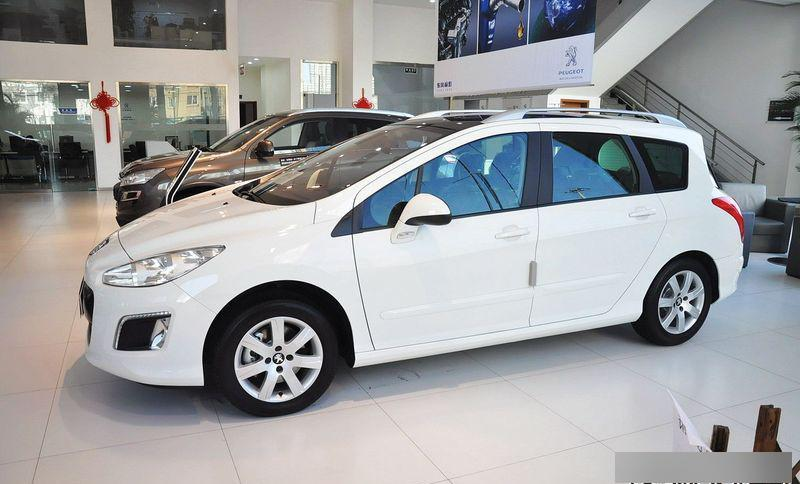Wagon: (78, 105, 746, 418)
